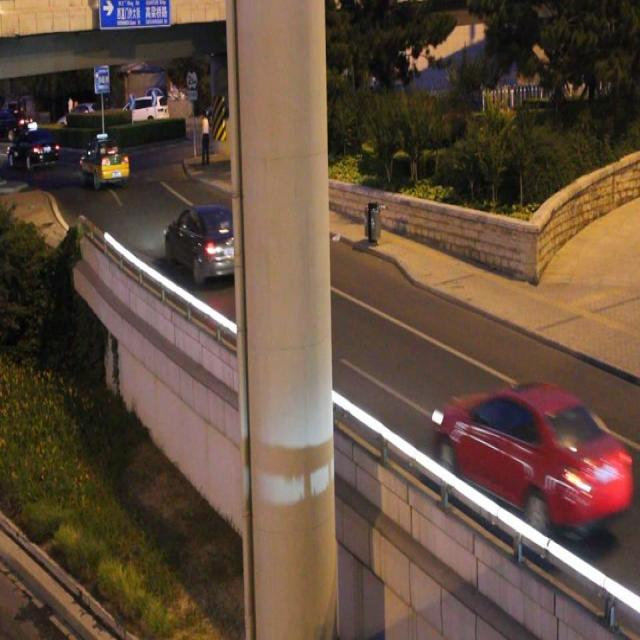car: (439, 381, 626, 535), (167, 204, 244, 280), (81, 143, 128, 184)
